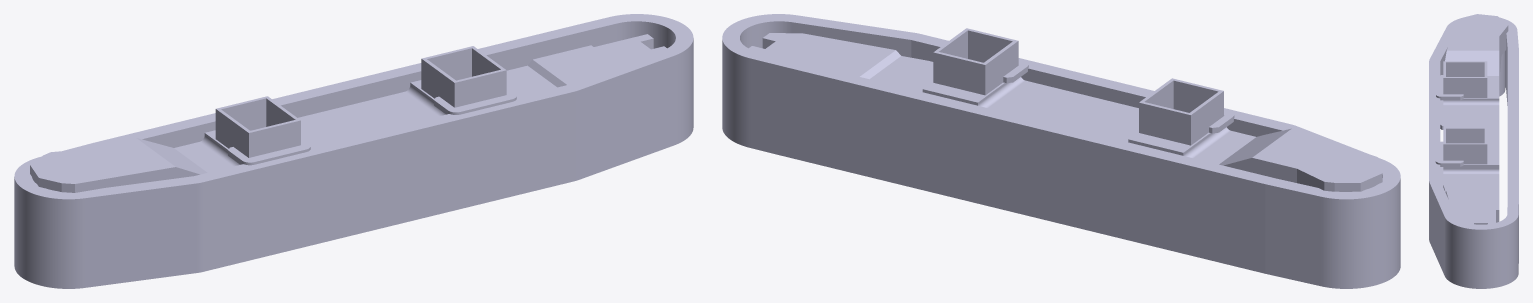
The model's file is CRAWLER_R.obj.
3 views of the same model, side by side, from view 1: azimuth 30°, elevation 25°; view 2: azimuth 150°, elevation 25°; view 3: azimuth 270°, elevation 25° (orthographic). The views are drawn at different scales.
Visible parts, largest first — view 1: HSC_1000HLX_CRAWLER_R_000_1-1000HLX_CRAWLER_R012 (Meshed); view 2: HSC_1000HLX_CRAWLER_R_000_1-1000HLX_CRAWLER_R012 (Meshed); view 3: HSC_1000HLX_CRAWLER_R_000_1-1000HLX_CRAWLER_R012 (Meshed).
Part boxes in pixels (x1,y1,x2,y2): HSC_1000HLX_CRAWLER_R_000_1-1000HLX_CRAWLER_R012 (Meshed): (14,14,693,288); HSC_1000HLX_CRAWLER_R_000_1-1000HLX_CRAWLER_R012 (Meshed): (722,14,1400,288); HSC_1000HLX_CRAWLER_R_000_1-1000HLX_CRAWLER_R012 (Meshed): (1429,14,1518,288).
Size of the model in its own units: 6293 by 1061 by 1113.
